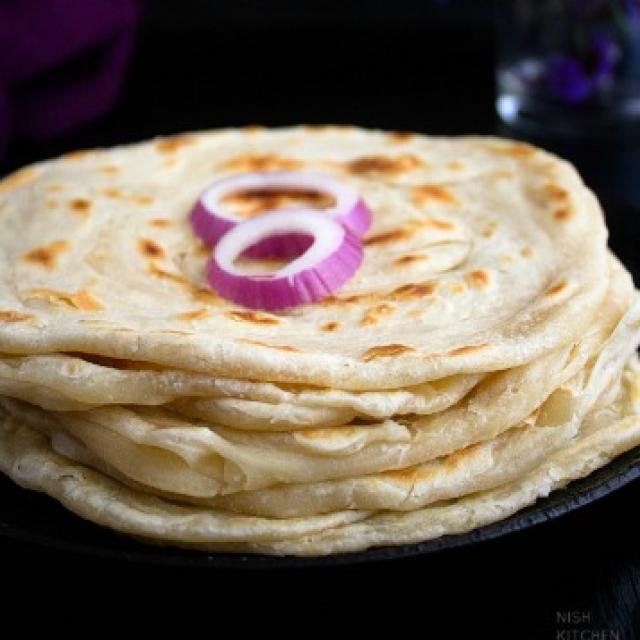PAROTTA: (0, 125, 638, 560)
